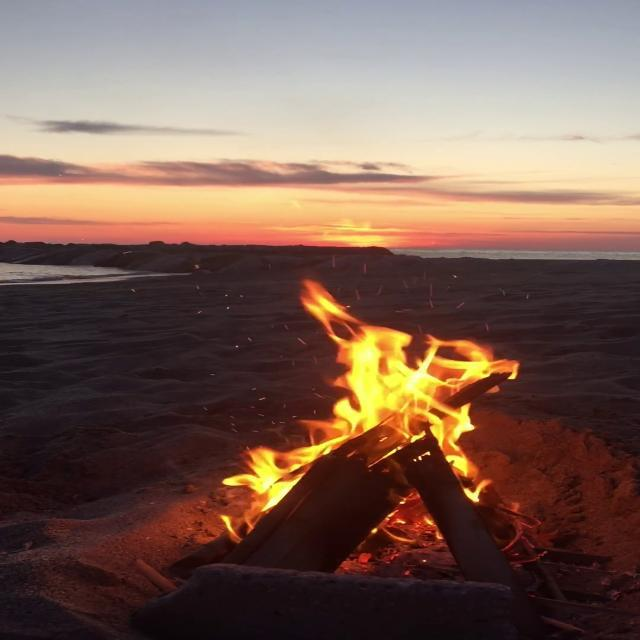Fire: (220, 277, 537, 541)
